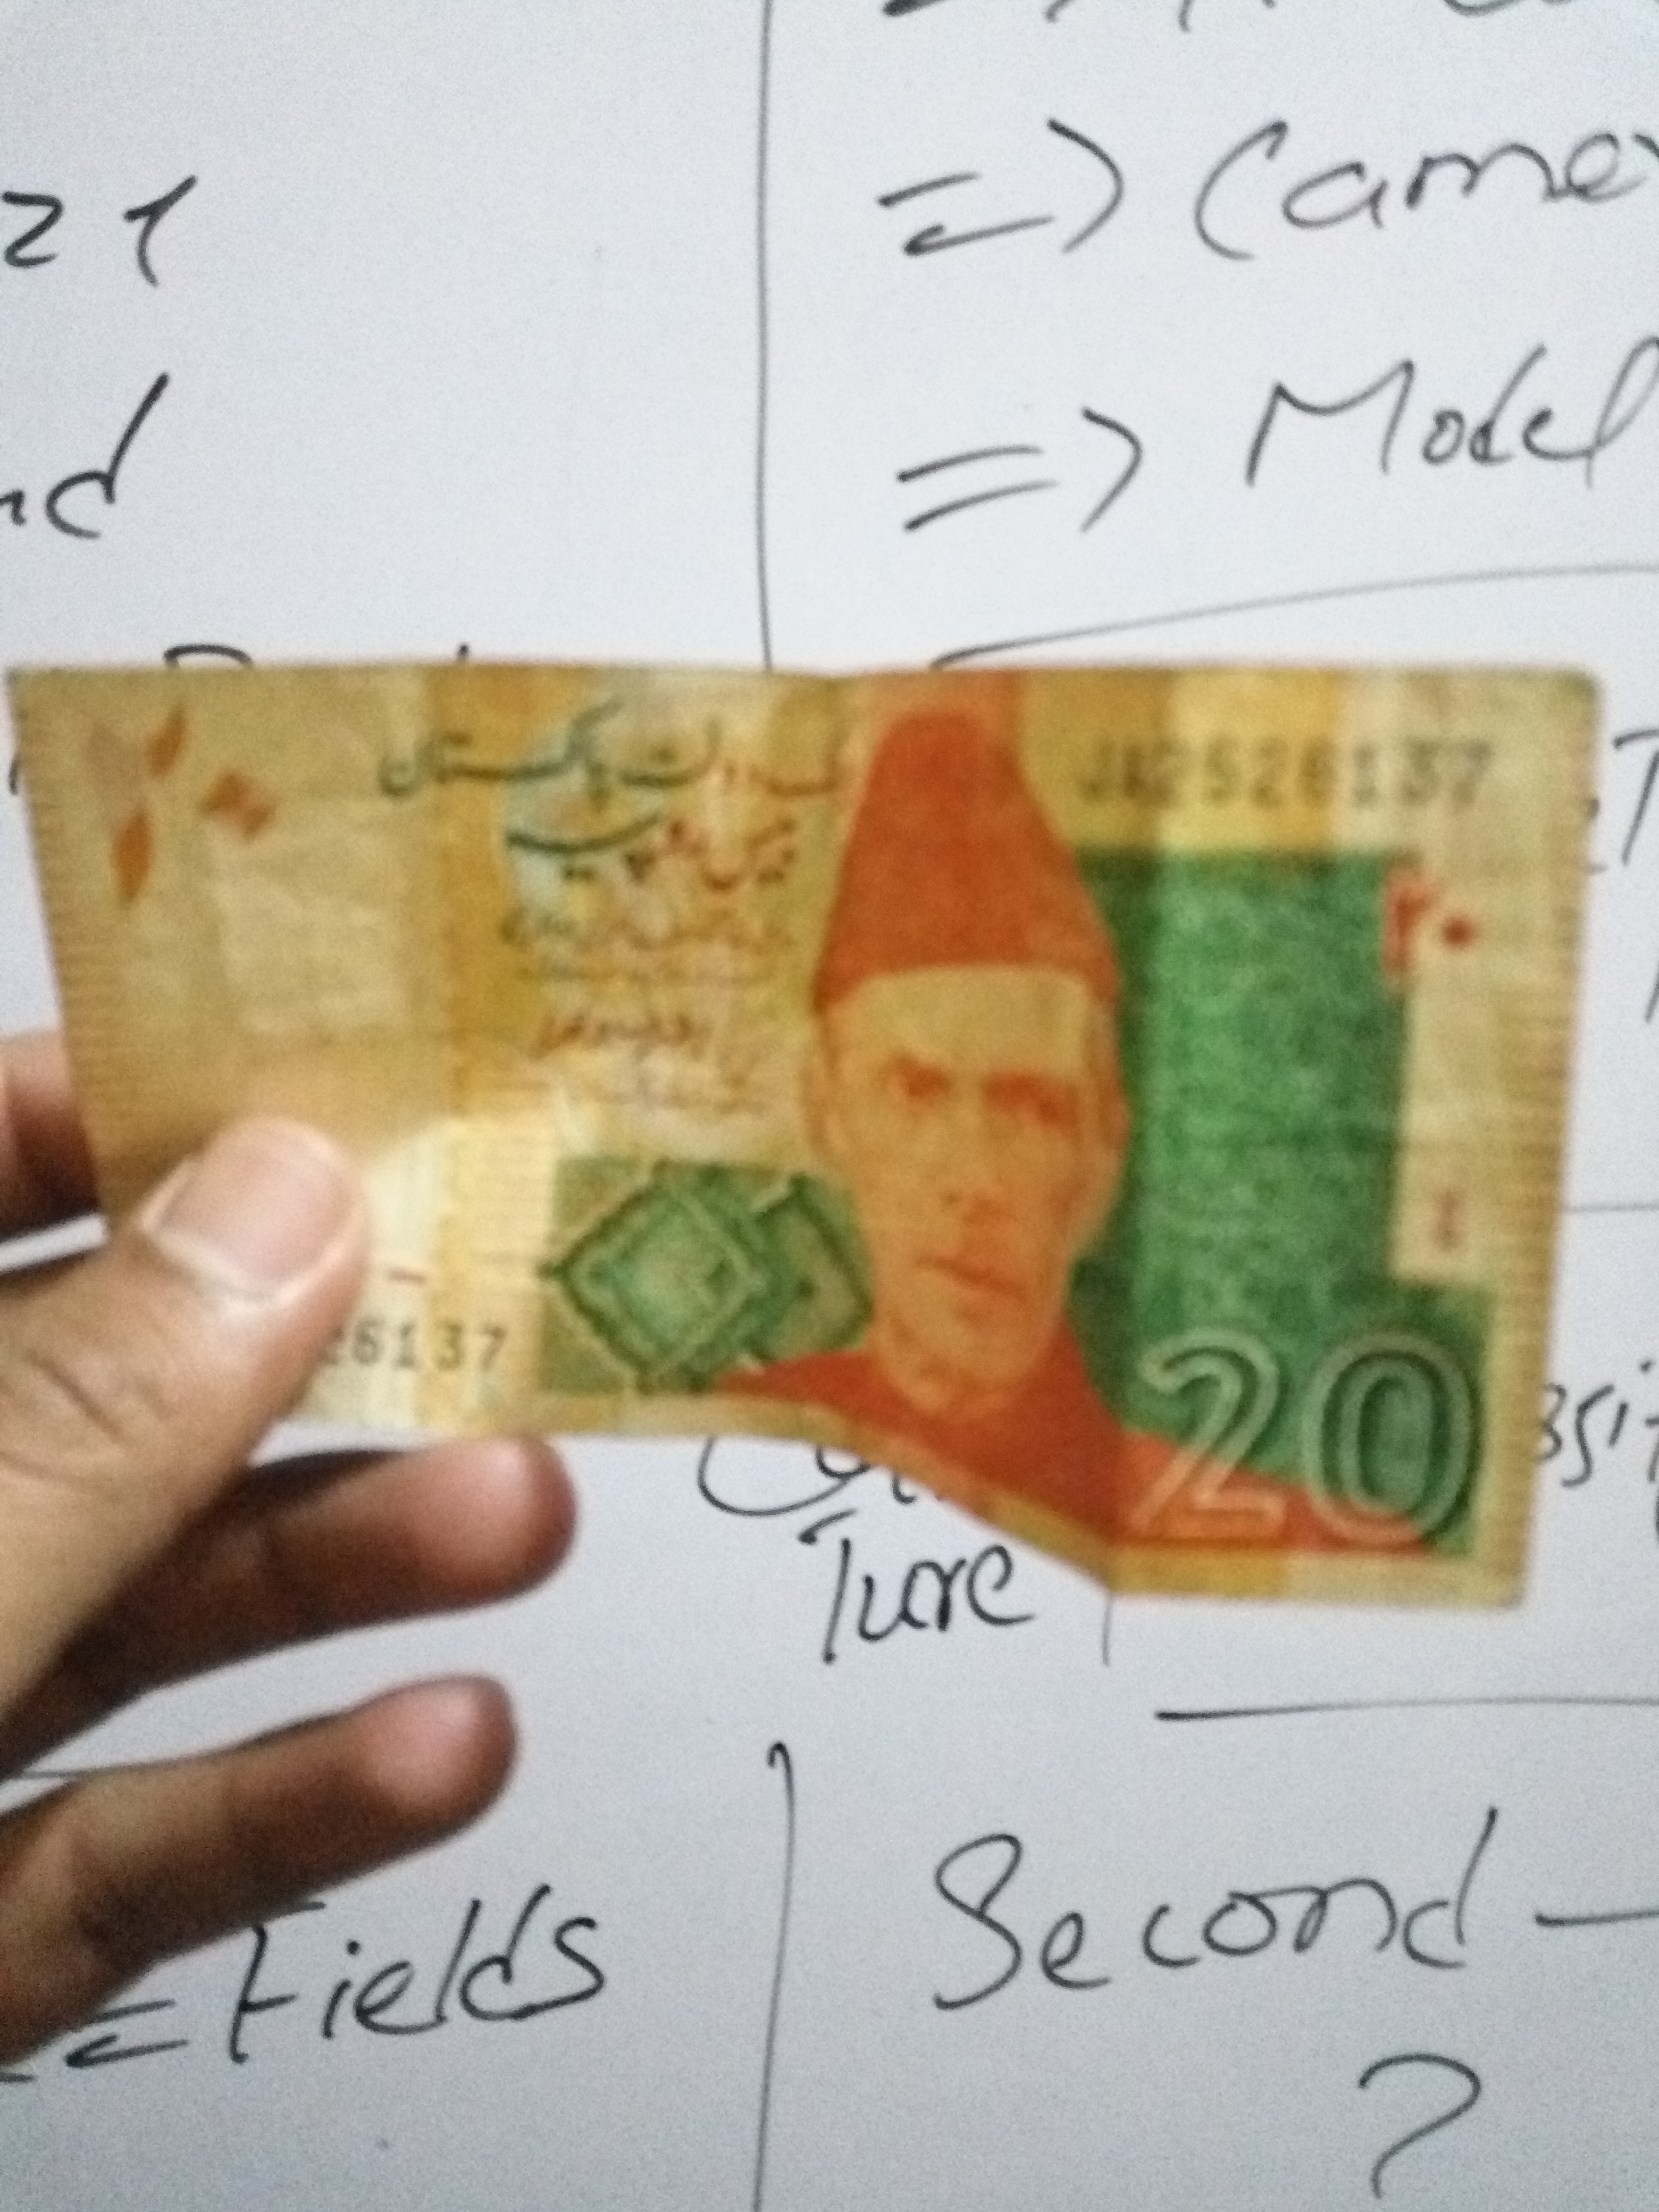20 rupee: (54, 622, 1624, 1615)
